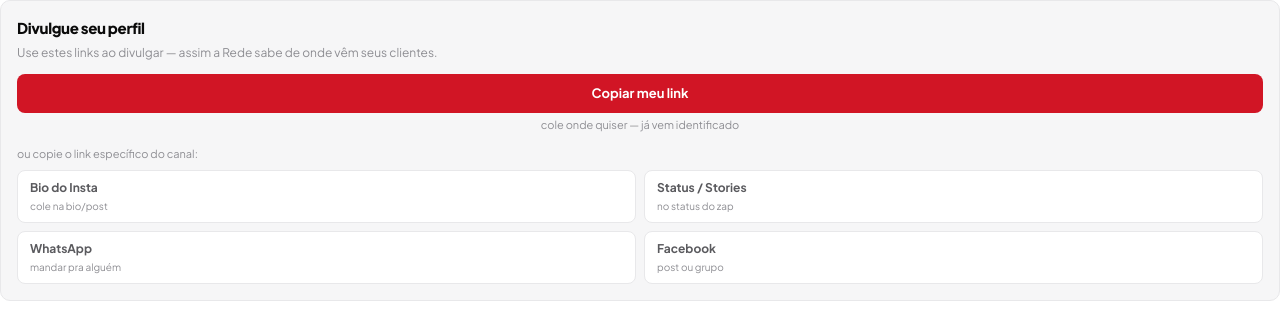
Test case: DivulgarPorCanal › o link genérico sai taggeado com utm_source=perfil
Click the button "Copiar meu link".
click(640, 93)  # box [17,74,1263,113]
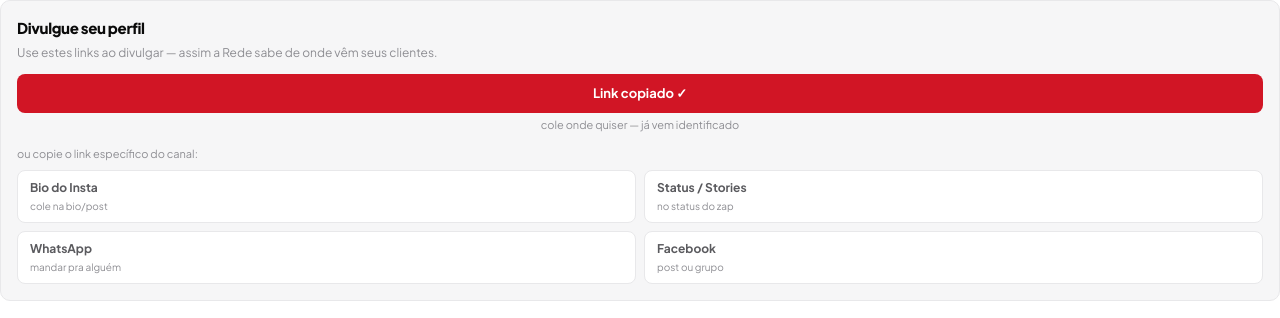
Check: the button "Link copiado ✓" is shown, box [17,74,1263,113]
